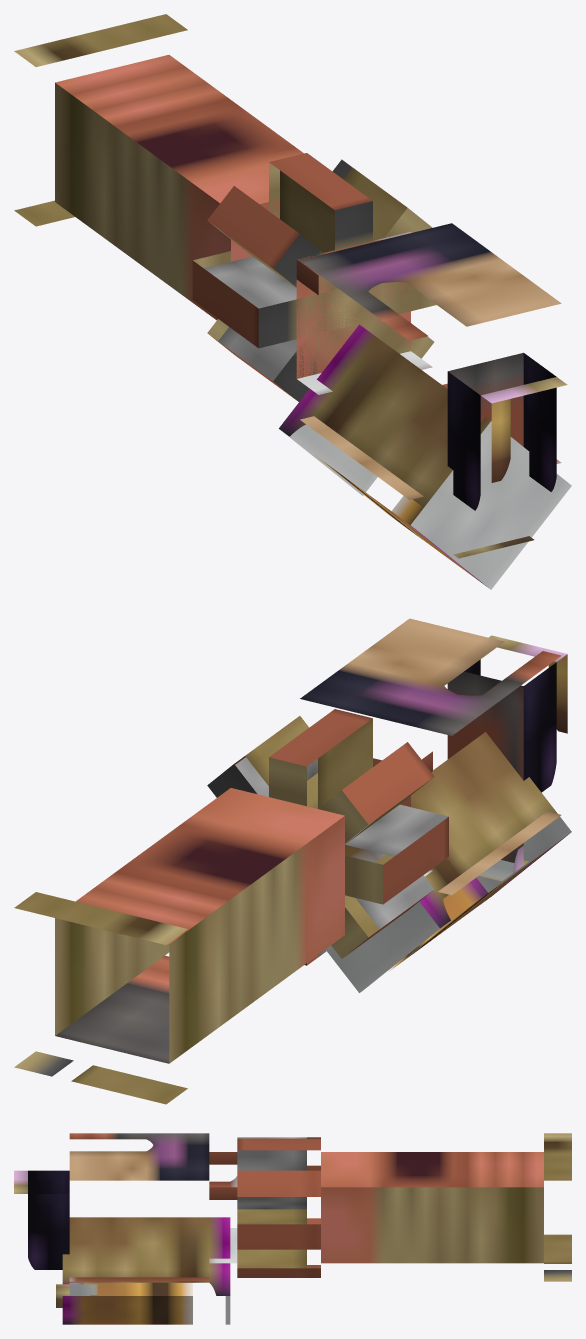
File: 土豆加农炮.obj
3 renders of one model, top to bottom at view 1: azimuth 30°, elevation 25°; view 2: azimuth 150°, elevation 25°; view 3: azimuth 270°, elevation 25°, orthographic. The views are drawn at different scales.
Parts seen in each view (by area): view 1: cube, Cog; view 2: cube, Cog; view 3: cube, Cog.
Boxes of the visible parts, x1,y1,x2,y2 form: cube: [14, 14, 571, 589]; Cog: [192, 153, 436, 401]; cube: [14, 618, 571, 1104]; Cog: [207, 709, 448, 965]; cube: [14, 1133, 571, 1324]; Cog: [237, 1137, 320, 1277].
Size of the model in its own units: 0.3125 by 0.4451 by 1.25.
Materials: 1 (1 with a texture image).
